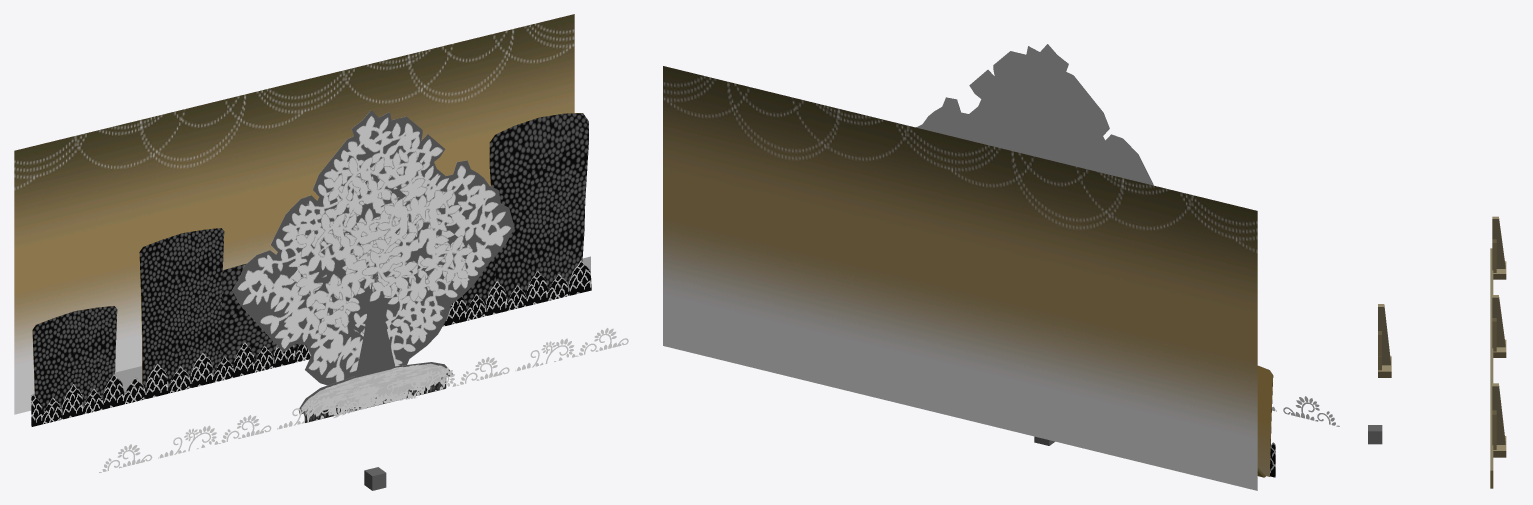
The model's file is stg_02_0.dae.
3 views of the same model, side by side, from view 1: azimuth 30°, elevation 25°; view 2: azimuth 150°, elevation 25°; view 3: azimuth 270°, elevation 25° (orthographic). The views are drawn at different scales.
Parts seen in each view (by area): view 1: pPlane442_q00034, S_tree_02_02, pPlane59_q00014, S_tree_02_01, pPlane45_q00013, polySurface1257_q00016, pPlane65_q00015, S_tree_02_06, S_tree_02_05, S_tree_02_04, S_kusa, pPlane44_q00012 (+4 smaller); view 2: pPlane442_q00034, S_tree_02_08, polySurface1258_q00033; view 3: polySurface1252_q00029, pCube24_q00025, pCube24_q00022, pCube24_q00019, pCube24_q00006, pCube25_q00000, pCube23_q00024, pCube22_q00023.
Boxes of the visible parts, bbox=[...] form: pPlane442_q00034: bbox=[14, 14, 574, 414]; S_tree_02_02: bbox=[237, 115, 510, 381]; pPlane59_q00014: bbox=[489, 113, 588, 310]; S_tree_02_01: bbox=[232, 110, 514, 385]; pPlane45_q00013: bbox=[139, 228, 224, 398]; polySurface1257_q00016: bbox=[31, 260, 591, 426]; pPlane65_q00015: bbox=[32, 306, 117, 418]; S_tree_02_06: bbox=[362, 189, 472, 301]; S_tree_02_05: bbox=[296, 208, 404, 334]; S_tree_02_04: bbox=[324, 151, 429, 274]; S_kusa: bbox=[99, 328, 628, 472]; pPlane44_q00012: bbox=[221, 263, 299, 370]; pPlane442_q00034: bbox=[663, 66, 1257, 490]; S_tree_02_08: bbox=[916, 44, 1153, 185]; polySurface1258_q00033: bbox=[1257, 366, 1272, 476]; polySurface1252_q00029: bbox=[1490, 248, 1493, 488]; pCube24_q00025: bbox=[1492, 383, 1505, 444]; pCube24_q00022: bbox=[1492, 216, 1505, 268]; pCube24_q00019: bbox=[1492, 295, 1505, 347]; pCube24_q00006: bbox=[1378, 304, 1390, 365]; pCube25_q00000: bbox=[1368, 425, 1382, 444]; pCube23_q00024: bbox=[1492, 410, 1496, 449]; pCube22_q00023: bbox=[1493, 436, 1506, 457].
Size of the model in its own units: 40 by 27.5 by 10.5.
